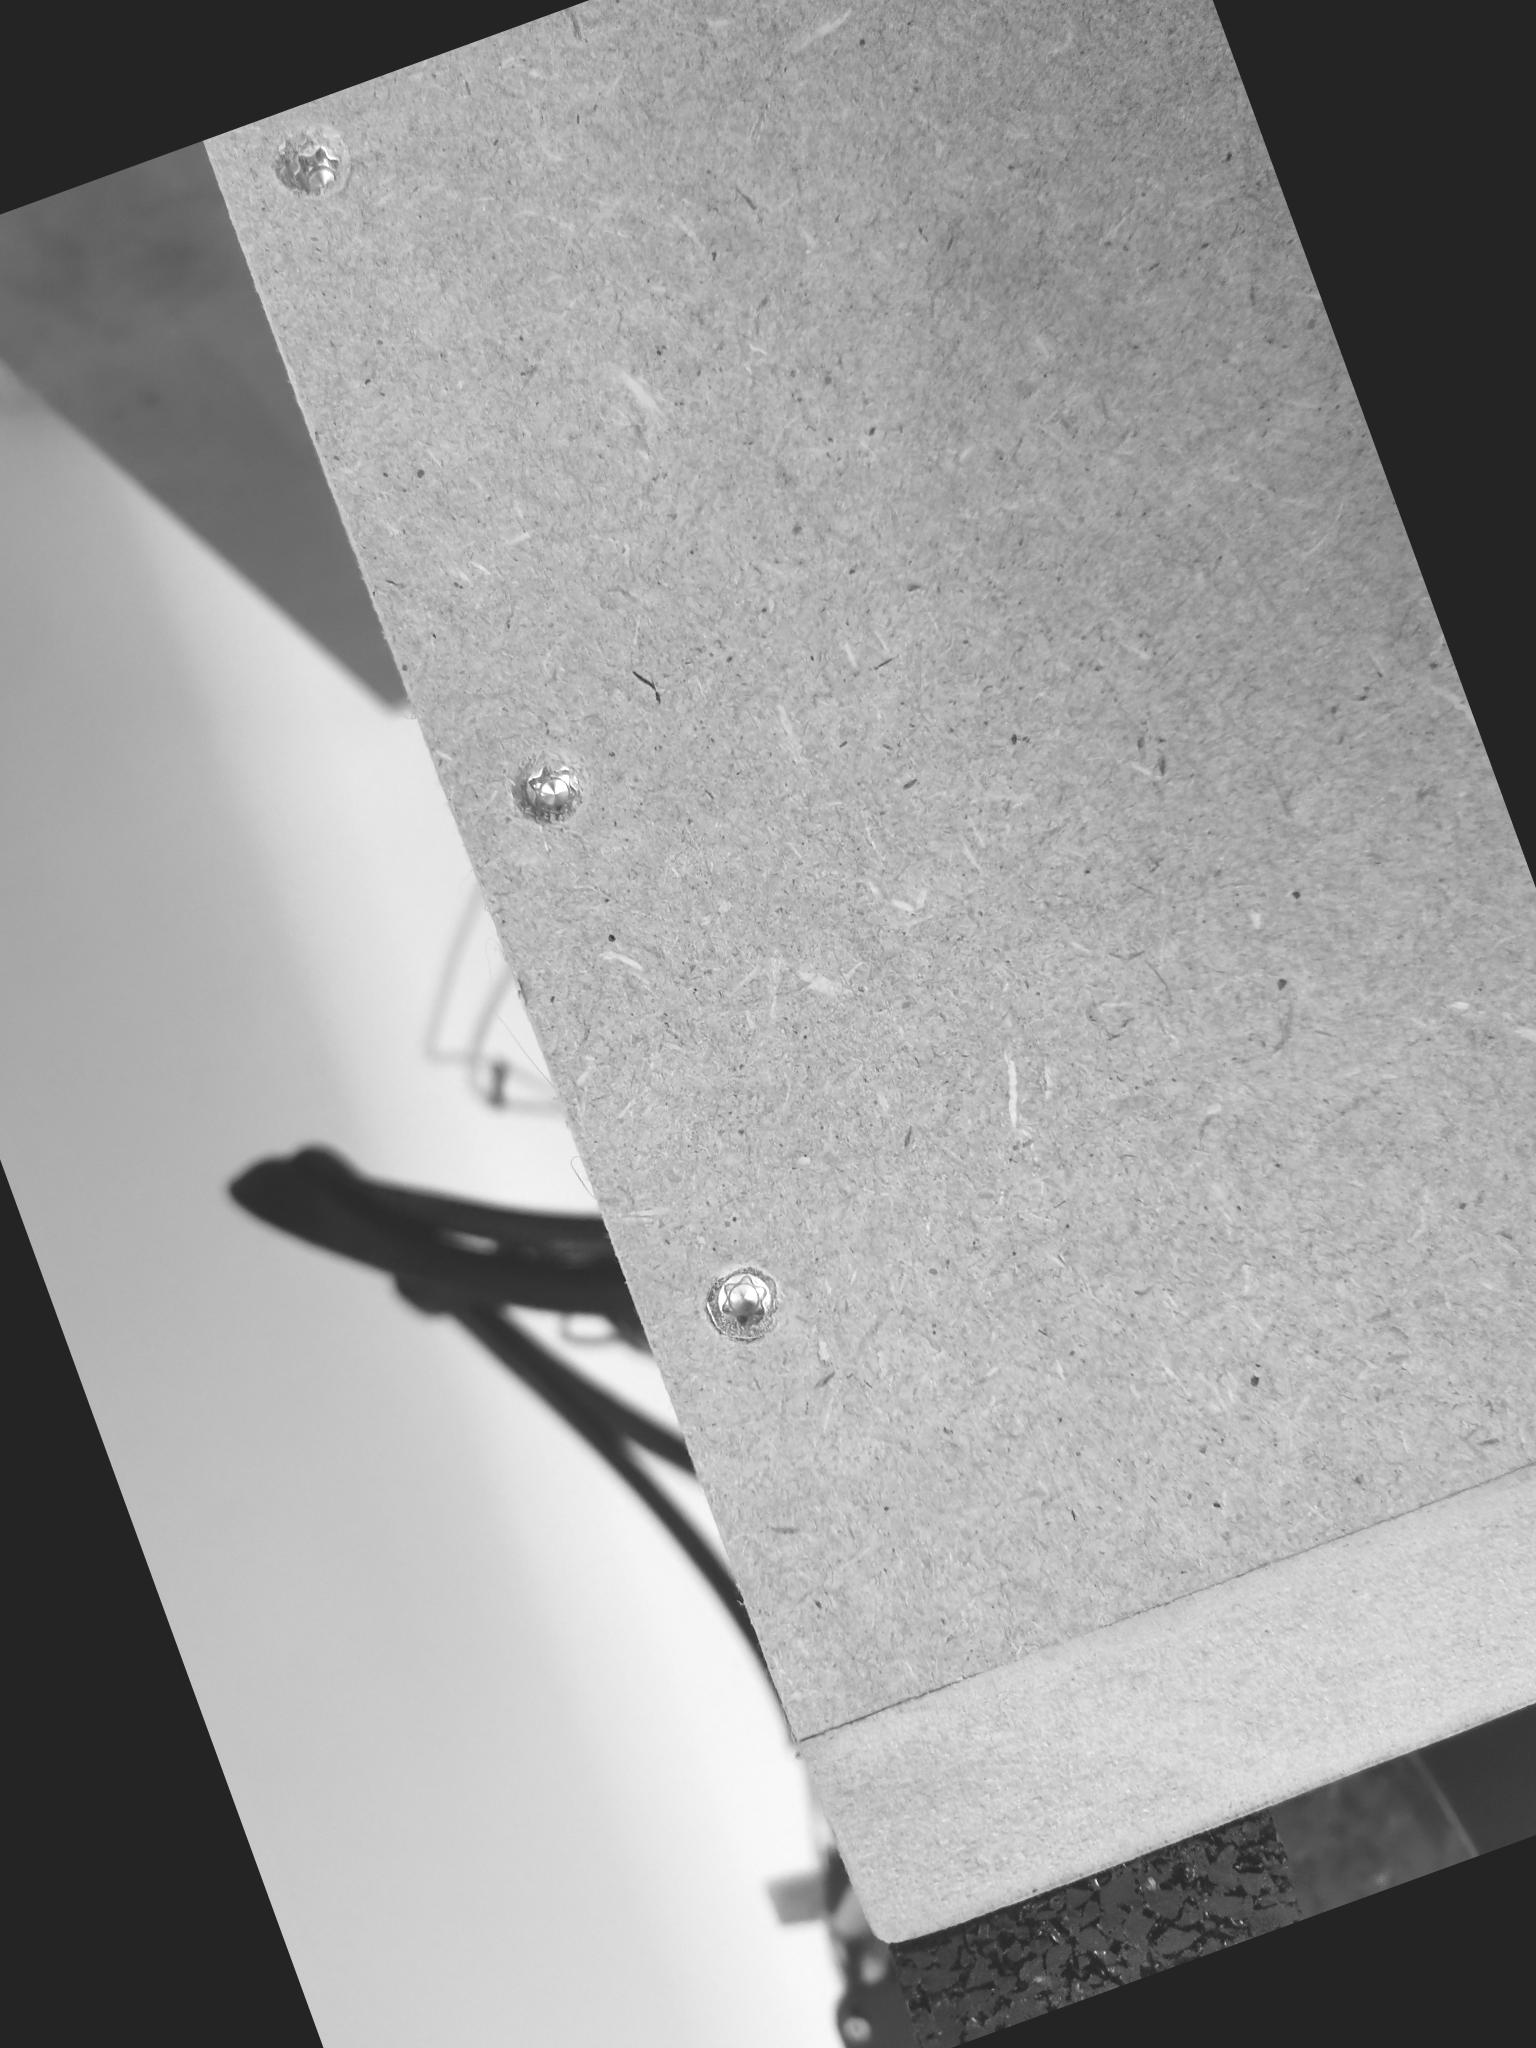torx: (686, 1243, 799, 1353)
